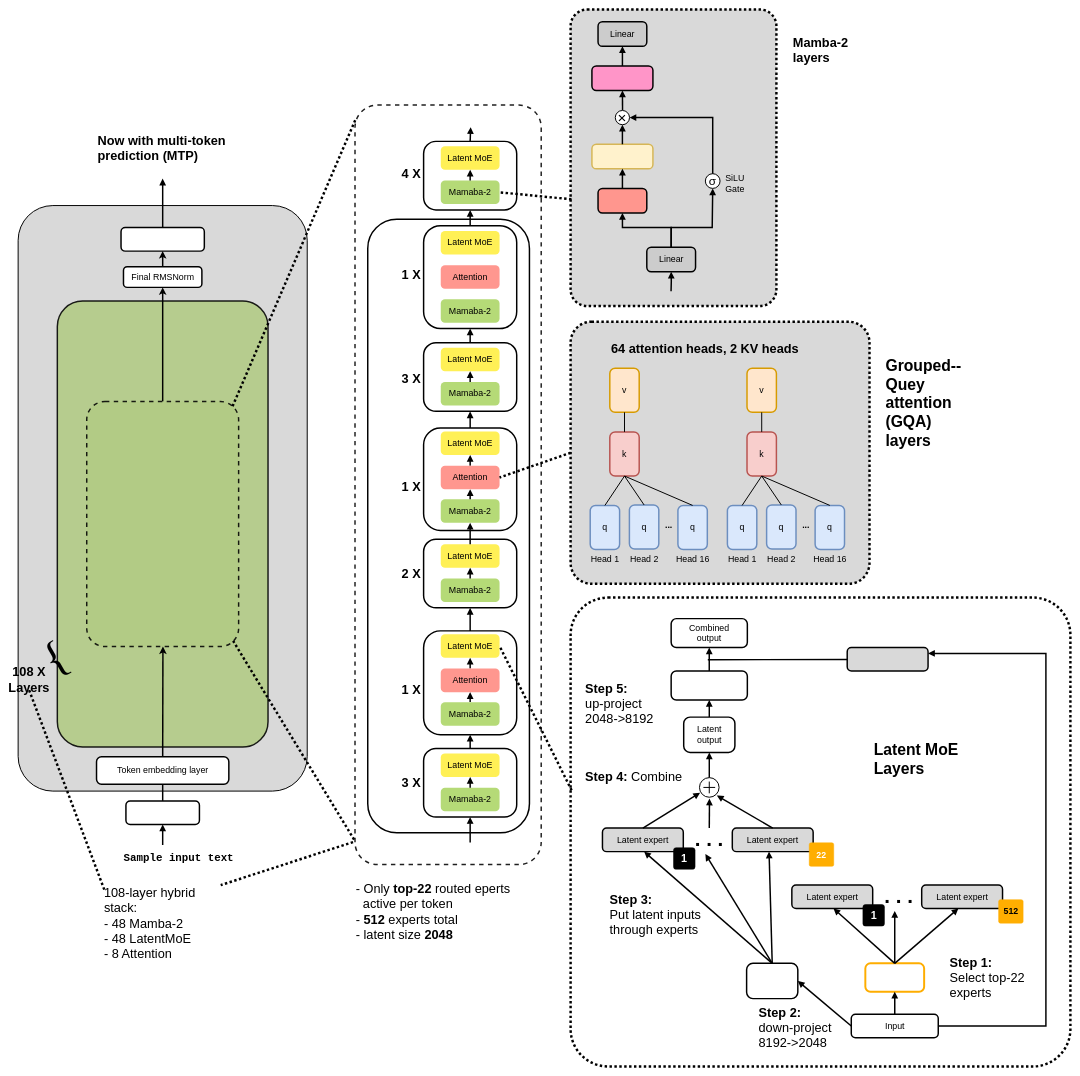
This 1080x1076 diagram has some shape labels left out. Here are the shapes that lost their labels. From the top down, the centre of each, then its label:
point (622, 78): RMSNorm
point (622, 156): SSM state update
point (622, 200): Conv1D
point (162, 239): Linear output layer
point (887, 659): Shared expert
point (709, 685): Routed output
point (162, 812): Tokenized text
point (772, 980): Latent Input
point (894, 977): Router
